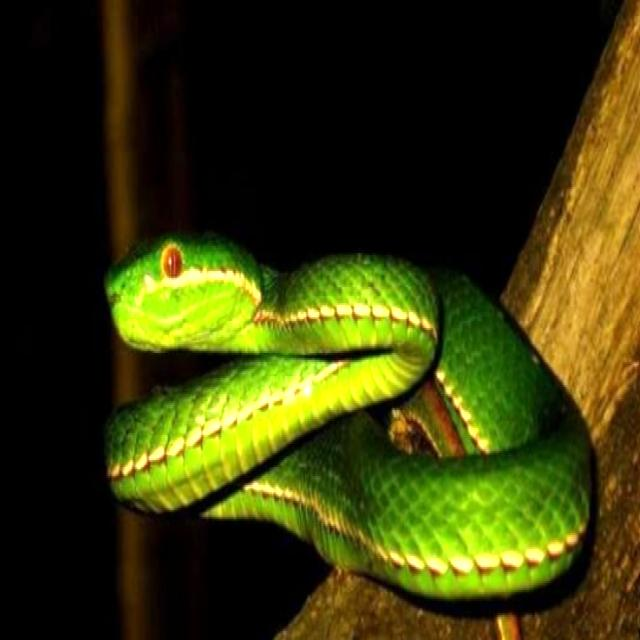Trimeresurus: (107, 236, 590, 598)
snake: (107, 236, 590, 598)
